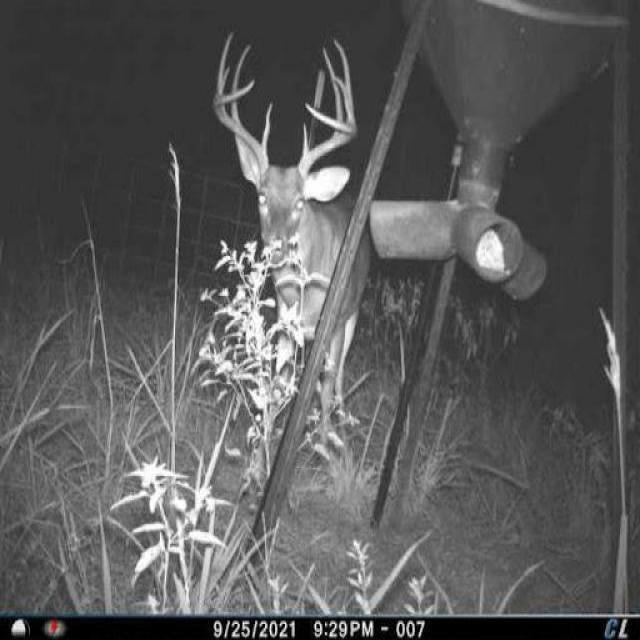deer: (206, 27, 378, 490)
